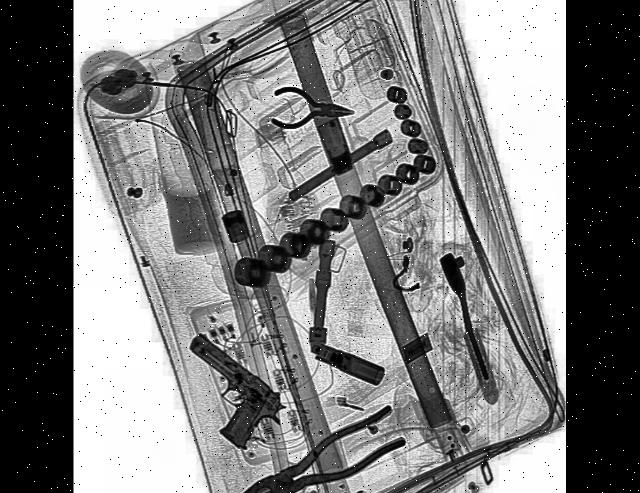Gun: (170, 324, 289, 467)
Pliers: (228, 397, 406, 493), (269, 84, 354, 131)
